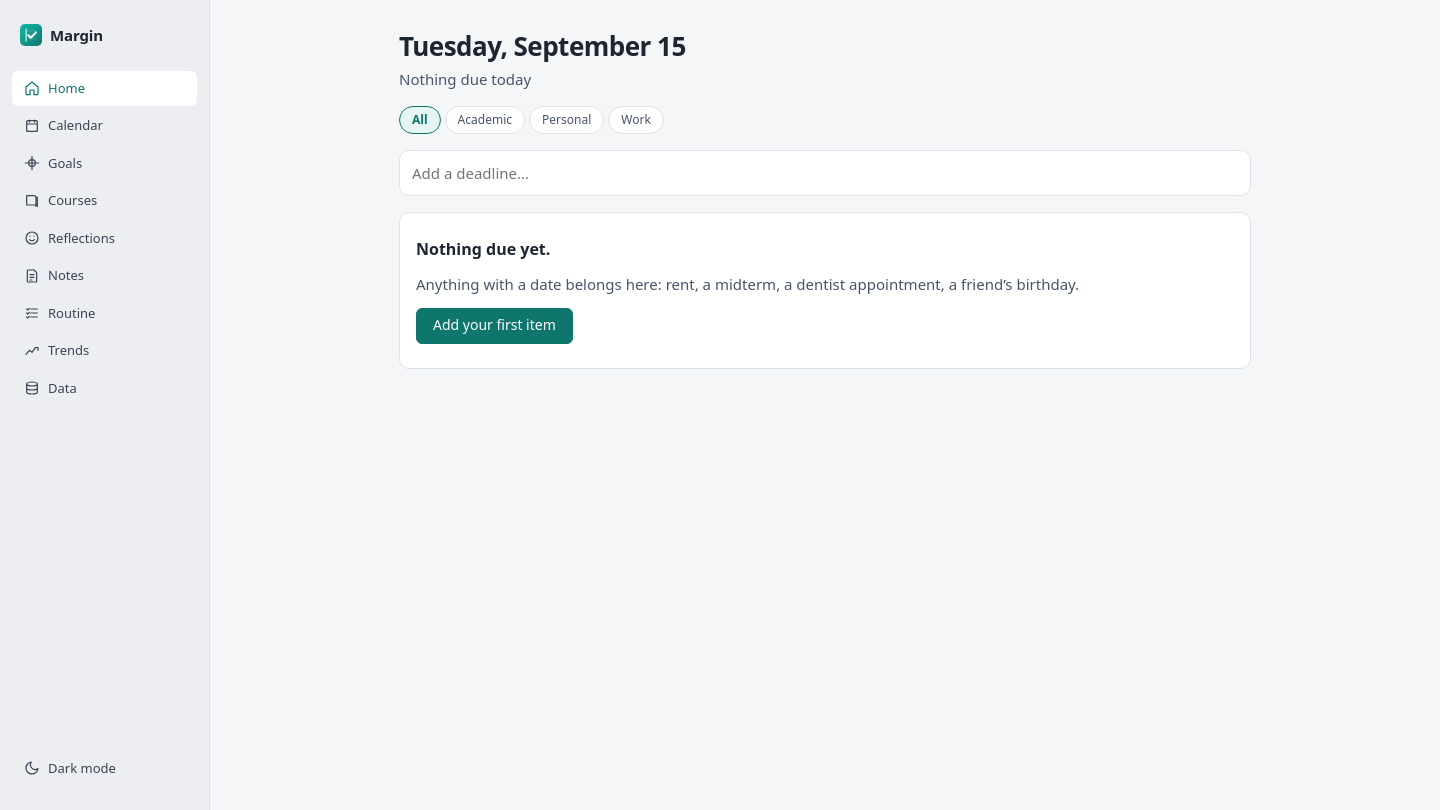
a title containing markup renders as text, not as HTML
This screenshot has width=1440, height=810.
Type "<img src=x onerror=alert(1)>" into the field named "Title" at (825, 173), box [400, 151, 1250, 195]
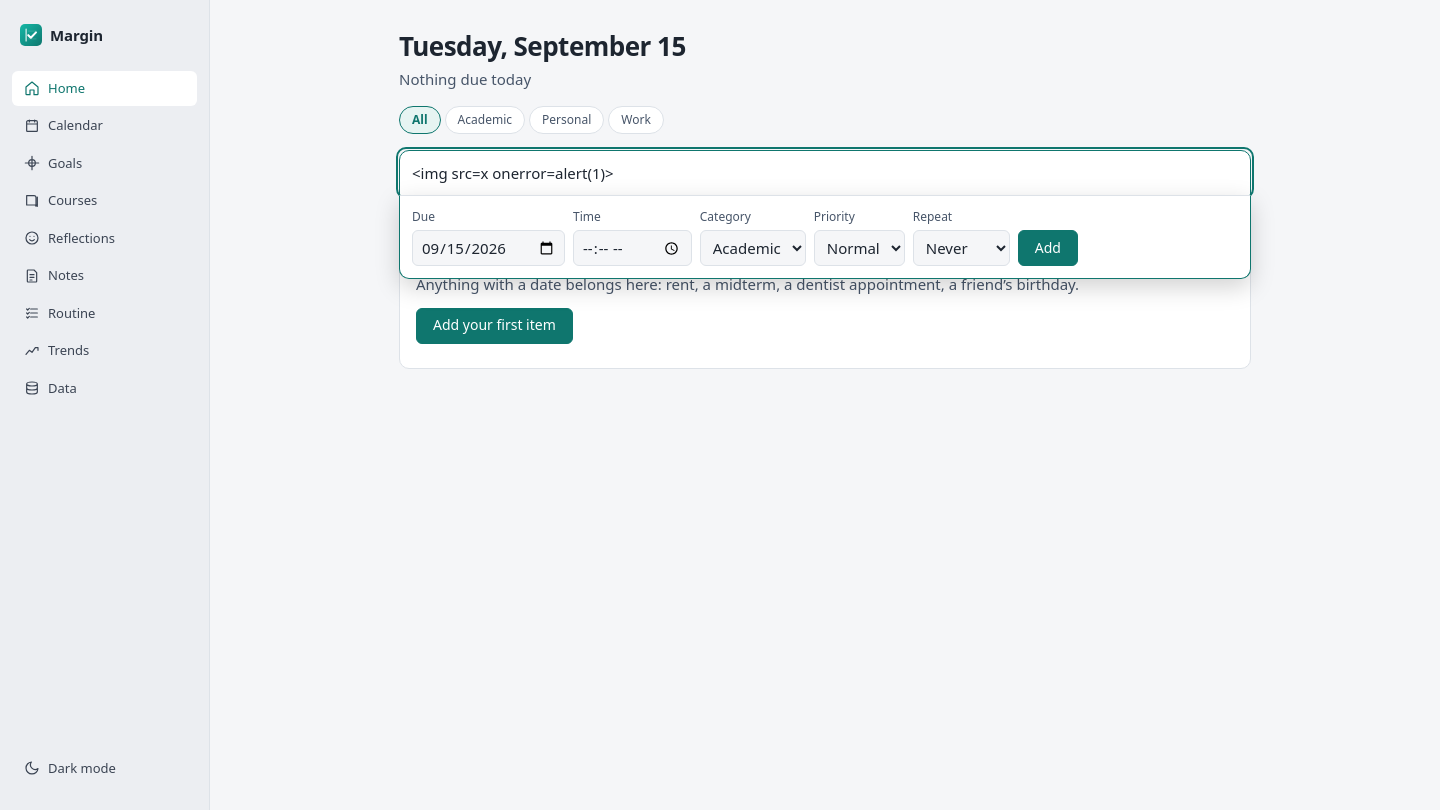
Type "2026-10-03" into the date field labelled "Due" at (488, 248), box [412, 230, 565, 266]
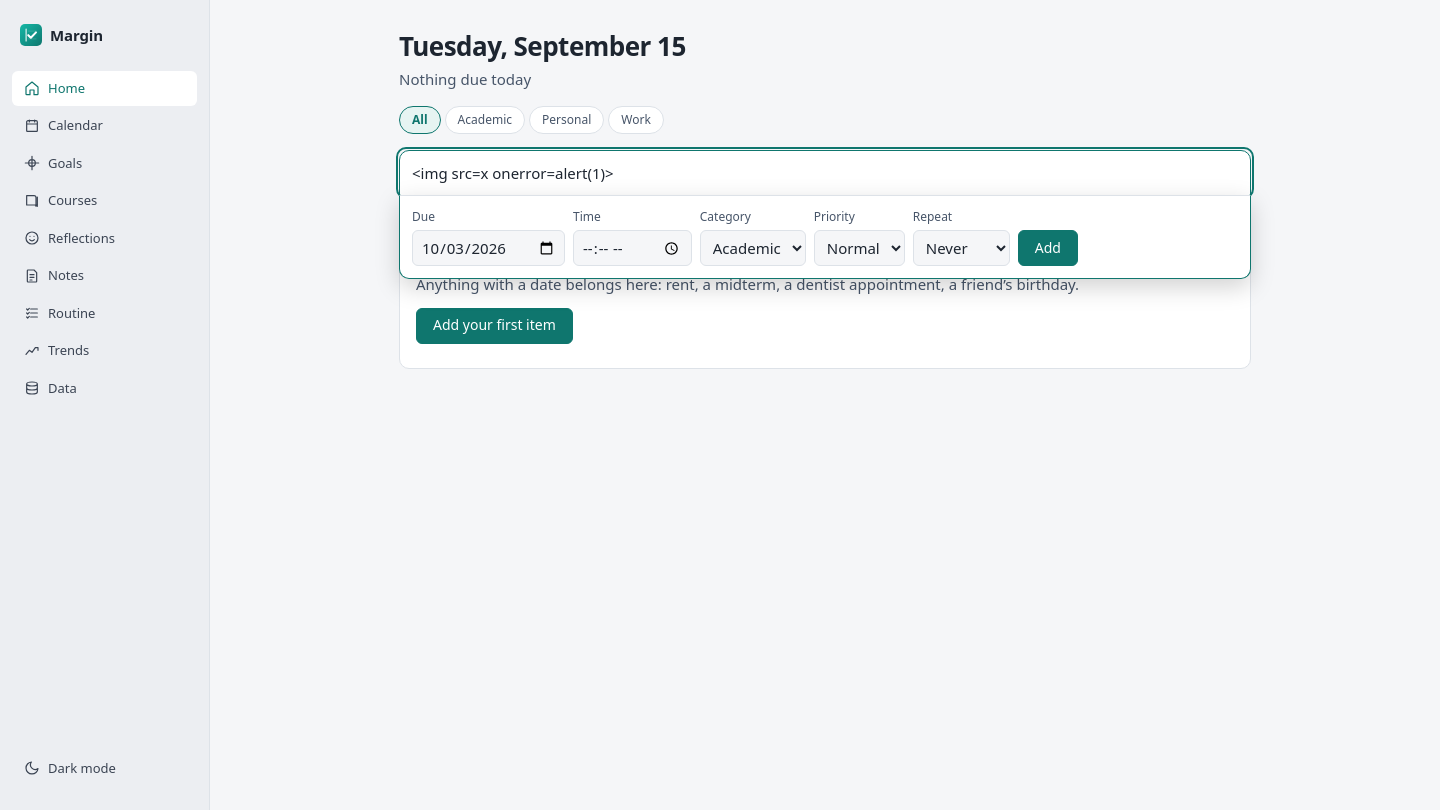
Click the button "Add" at (1048, 248), box [1018, 230, 1078, 266]
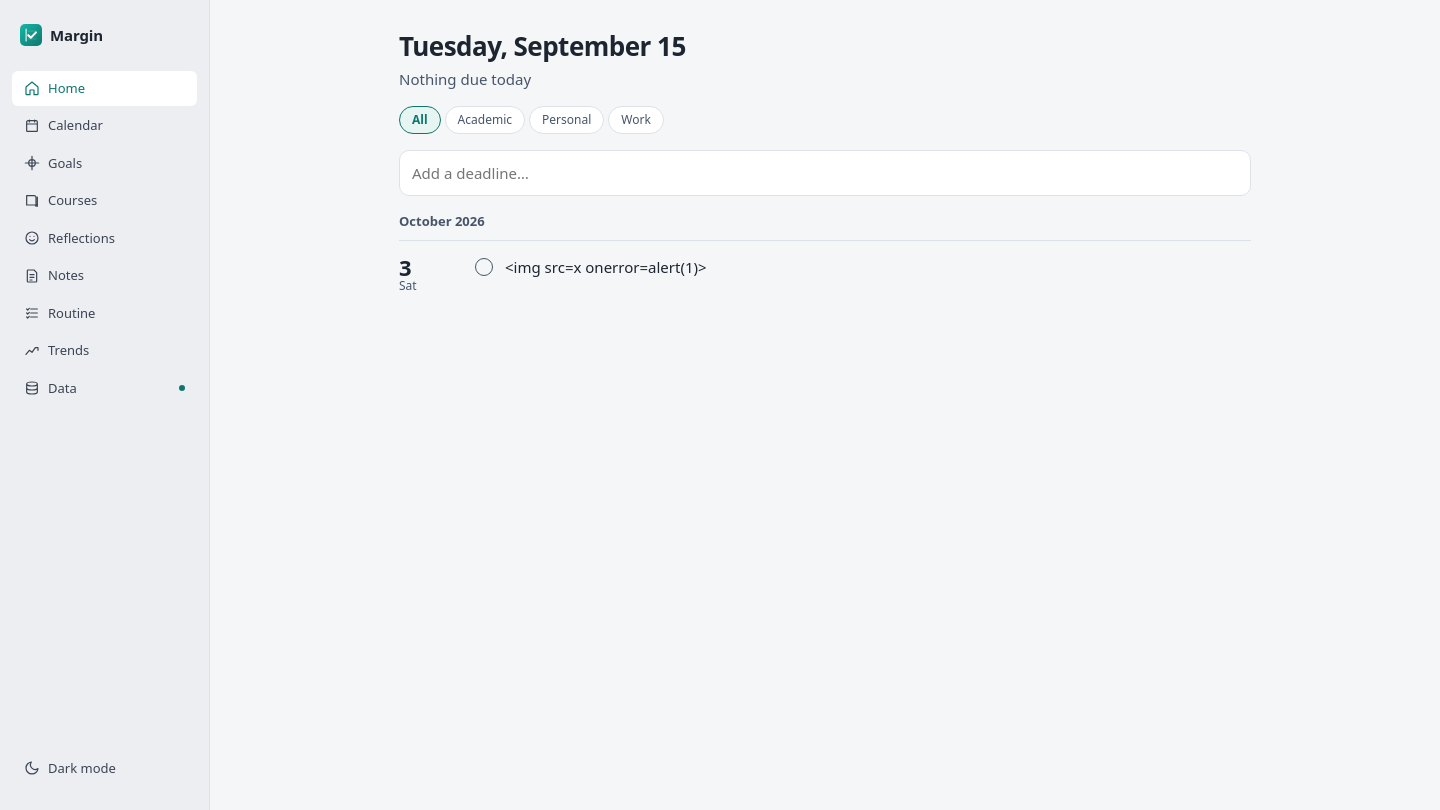
expect the button "<img src=x onerror=alert(1)>" is shown: met, box [505, 256, 1243, 278]
